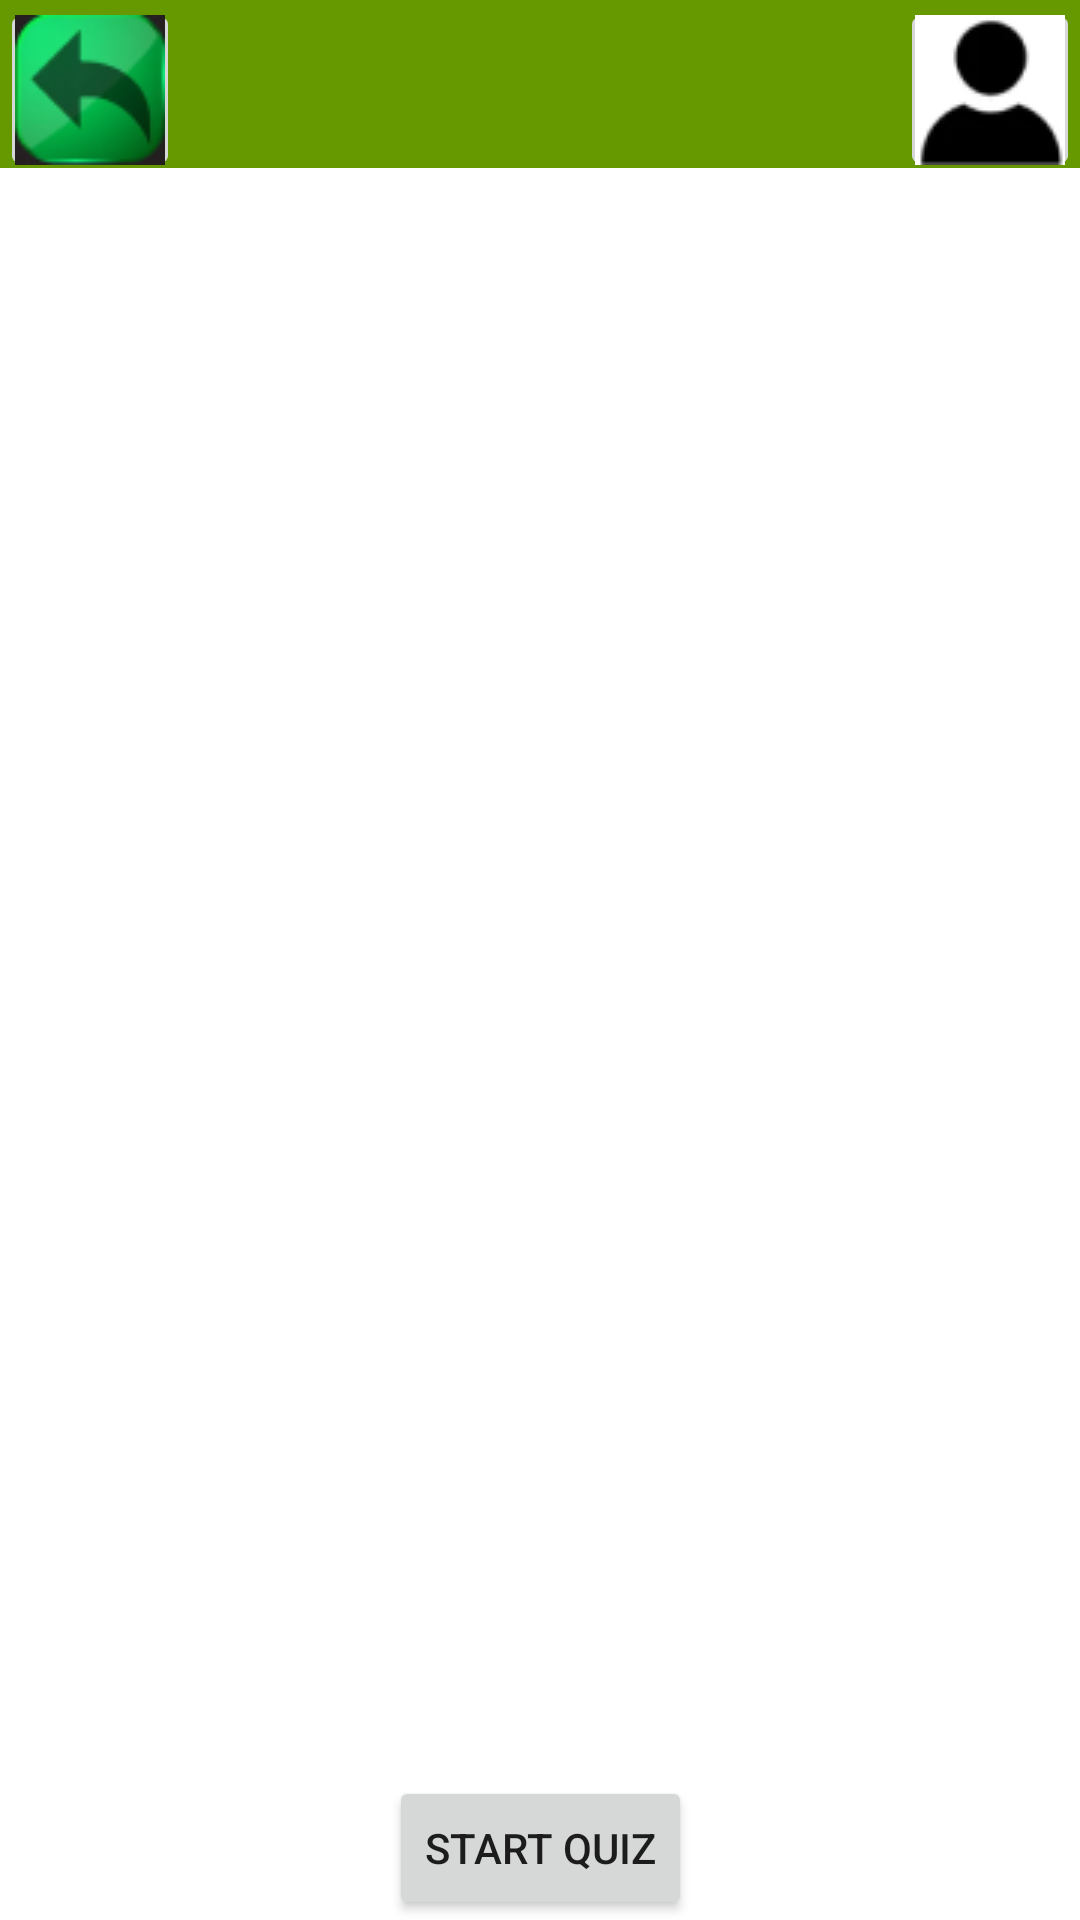

Named icons in this screenshot (1080 × 1920) and their centers, (x=x, y=y):
account: (x=990, y=90)
back: (x=90, y=90)
